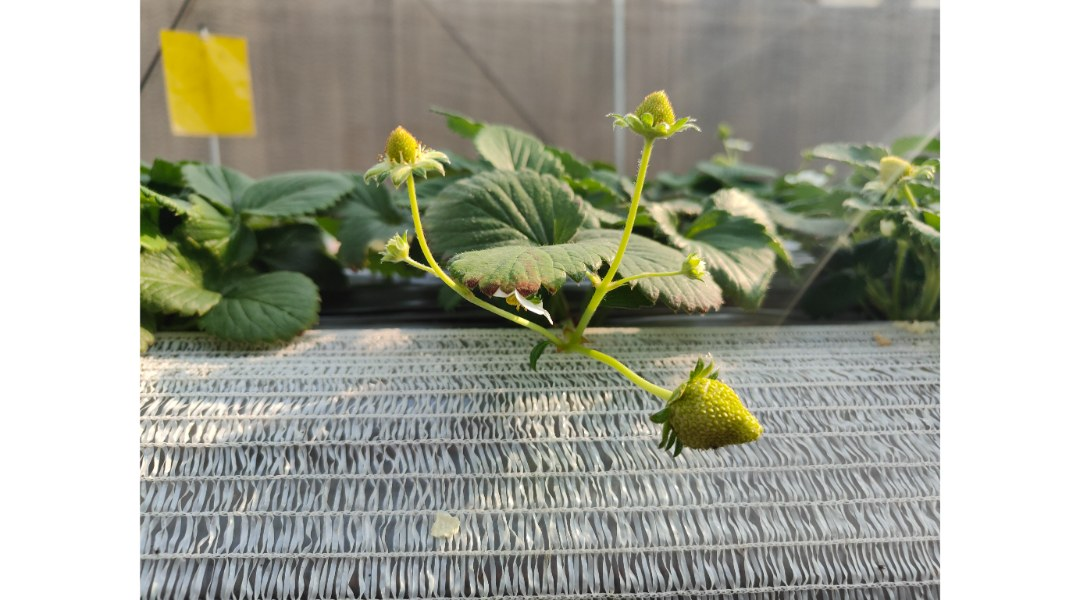berry: (654, 355, 767, 458), (608, 60, 703, 150), (352, 123, 442, 182), (368, 232, 418, 284), (673, 249, 722, 291)
strain: (603, 142, 652, 276), (454, 284, 549, 342), (586, 345, 668, 398), (403, 182, 432, 261)
